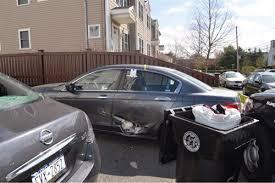doorouter-dent: (113, 89, 162, 138)
